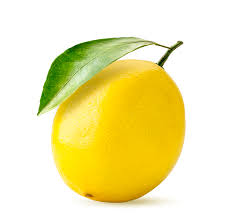lemon: (43, 51, 200, 207)
